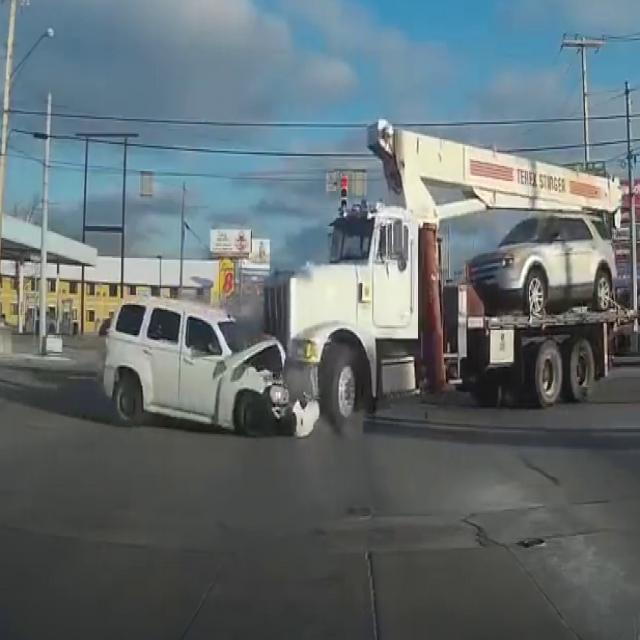accident: (116, 238, 424, 464)
